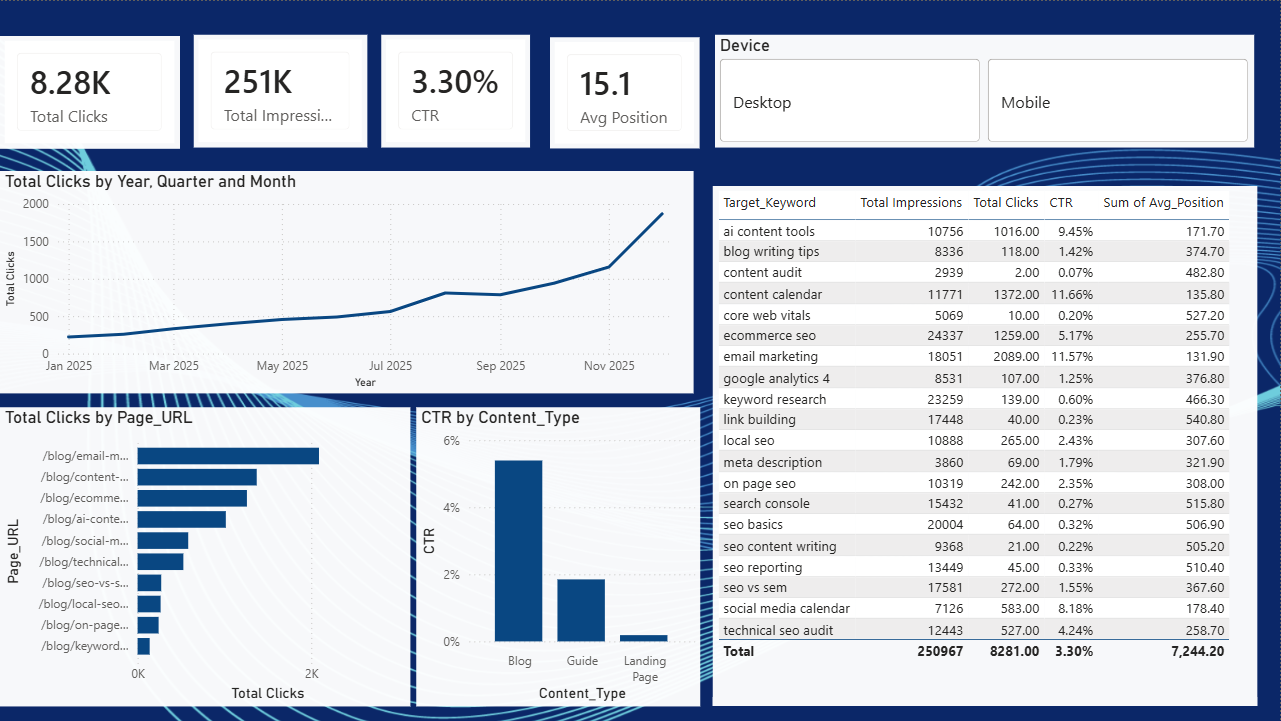

Layout of this report page (visuals, bound fields, positions):
{"tool":"powerbi","page":{"name":"Page 1","canvas":[1280,720],"ordinal":0},"visuals":[{"type":"cardVisual","fields":{"Data":["seo_performance.Total Clicks"]},"box":[0,35.5,179.8,112.5],"z":0},{"type":"cardVisual","fields":{"Data":["seo_performance.Total Impressions"]},"box":[193.2,34.2,173.6,112.5],"z":1000},{"type":"cardVisual","fields":{"Data":["seo_performance.CTR"]},"box":[381.5,34.2,149.2,112.5],"z":2000},{"type":"cardVisual","fields":{"Data":["seo_performance.Avg Position"]},"box":[550.3,35.7,149.6,111.1],"z":3000},{"type":"lineChart","fields":{"Category":["seo_performance.Month.Variation.Date Hierarchy.Year","seo_performance.Month.Variation.Date Hierarchy.Quarter","seo_performance.Month.Variation.Date Hierarchy.Month","seo_performance.Month.Variation.Date Hierarchy.Day"],"Y":["seo_performance.Total Clicks"]},"box":[0,170,693.3,222.6],"z":4000},{"type":"advancedSlicerVisual","fields":{"Values":["seo_performance.Device"]},"box":[714.9,34.3,539.3,112.5],"z":5000},{"type":"clusteredBarChart","fields":{"Category":["seo_performance.Page_URL"],"Y":["seo_performance.Total Clicks"]},"box":[0,406.2,410.3,299.1],"z":6000},{"type":"clusteredColumnChart","fields":{"Category":["seo_performance.Content_Type"],"Y":["seo_performance.CTR"]},"box":[415.8,406.2,284,299.1],"z":6001},{"type":"tableEx","fields":{"Values":["seo_performance.Target_Keyword","seo_performance.Total Impressions","seo_performance.Total Clicks","seo_performance.CTR","Sum(seo_performance.Avg_Position)"]},"box":[712.2,185.2,544.8,520.1],"z":6002}]}

Visuals, with their boxes in screenshot pixels (x1, y1, x2, y2), scaled from the page's 1280x720 canvas onto the 1281x721 screenshot:
cardVisual - seo_performance.Total Clicks: pyautogui.locateOnScreen(0, 36, 180, 148)
cardVisual - seo_performance.Total Impressions: pyautogui.locateOnScreen(193, 34, 367, 147)
cardVisual - seo_performance.CTR: pyautogui.locateOnScreen(382, 34, 531, 147)
cardVisual - seo_performance.Avg Position: pyautogui.locateOnScreen(551, 36, 700, 147)
lineChart - seo_performance.Month.Variation.Date Hierarchy.Year x seo_performance.Month.Variation.Date Hierarchy.Quarter: pyautogui.locateOnScreen(0, 170, 694, 393)
advancedSlicerVisual - seo_performance.Device: pyautogui.locateOnScreen(715, 34, 1255, 147)
clusteredBarChart - seo_performance.Page_URL x seo_performance.Total Clicks: pyautogui.locateOnScreen(0, 407, 411, 706)
clusteredColumnChart - seo_performance.Content_Type x seo_performance.CTR: pyautogui.locateOnScreen(416, 407, 700, 706)
tableEx - seo_performance.Target_Keyword x seo_performance.Total Impressions: pyautogui.locateOnScreen(713, 185, 1258, 706)
